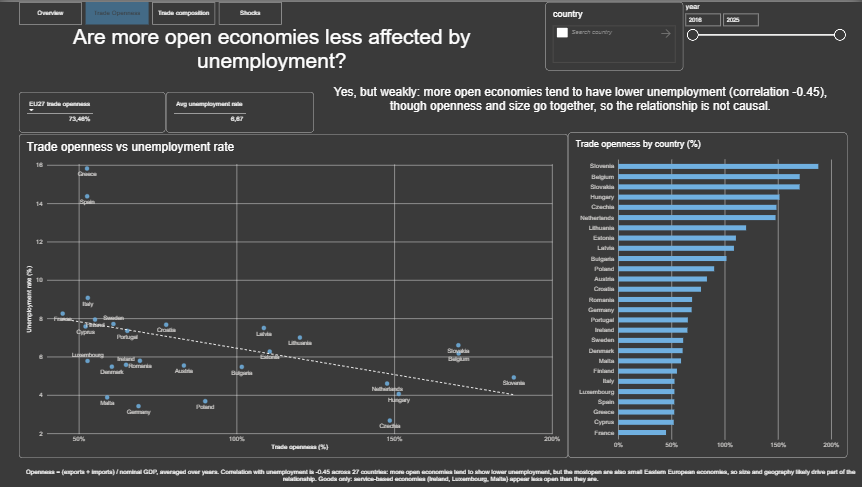

The page's visual inventory and layout, read from the dashboard file:
{"tool":"powerbi","page":{"name":"Trade Openness","canvas":[1920,1080],"ordinal":1},"visuals":[{"type":"textbox","title":"Are more open economies less affected by unemployment?","box":[0,50,1216.7,103.3],"z":0},{"type":"textSlicer","fields":{"Values":["dim_country.country"]},"box":[1215,0,306,152],"z":1000},{"type":"slicer","fields":{"Values":["dim_year.year"]},"box":[1520,0,366.7,153.3],"z":2000},{"type":"tableEx","fields":{"Values":["_Measures.Trade openness % (avg of years)"]},"box":[47.8,201.1,325.6,90],"z":3000},{"type":"tableEx","fields":{"Values":["_Measures.Avg unemployment rate"]},"box":[373.8,201.2,328.8,90],"z":4000},{"type":"scatterChart","title":"Trade openness vs unemployment rate","fields":{"Category":["dim_country.country"],"X":["_Measures.Trade openness % (avg of years)"],"Y":["_Measures.Avg unemployment rate"]},"box":[47.5,292.5,1220,720],"z":5000},{"type":"barChart","title":"Trade openness by country (%)","fields":{"Category":["dim_country.country"],"Y":["_Measures.Trade openness % (avg of years)"]},"box":[1266.9,291.1,620.3,722.9],"z":6000},{"type":"textbox","box":[45,1035,1874,46],"z":7000},{"type":"textbox","box":[704,154,1182,136],"z":9000},{"type":"pageNavigator","box":[47.5,0,587.1,50],"z":9001}]}

Visuals, with their boxes in screenshot pixels (x1, y1, x2, y2), scaled from the page's 1920x1080 canvas onto the 862x487 screenshot:
"Are more open economies less affected by unemployment?" textbox: <region>0, 23, 546, 69</region>
textSlicer - dim_country.country: <region>545, 0, 683, 69</region>
slicer - dim_year.year: <region>682, 0, 847, 69</region>
tableEx - _Measures.Trade openness % (avg of years): <region>21, 91, 168, 131</region>
tableEx - _Measures.Avg unemployment rate: <region>168, 91, 315, 131</region>
"Trade openness vs unemployment rate" scatterChart: <region>21, 132, 569, 457</region>
"Trade openness by country (%)" barChart: <region>569, 131, 847, 457</region>
textbox: <region>20, 467, 861, 486</region>
textbox: <region>316, 69, 847, 131</region>
pageNavigator: <region>21, 0, 285, 23</region>
